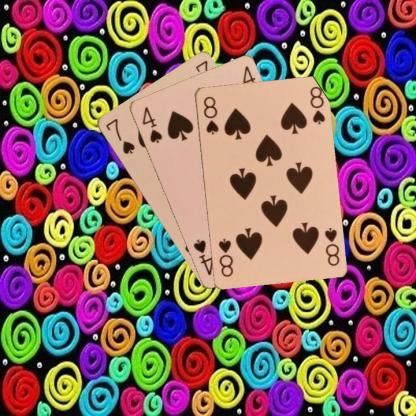4s: (139, 104, 164, 144)
7s: (103, 116, 136, 156)
8s: (200, 93, 219, 136), (322, 225, 340, 267)
